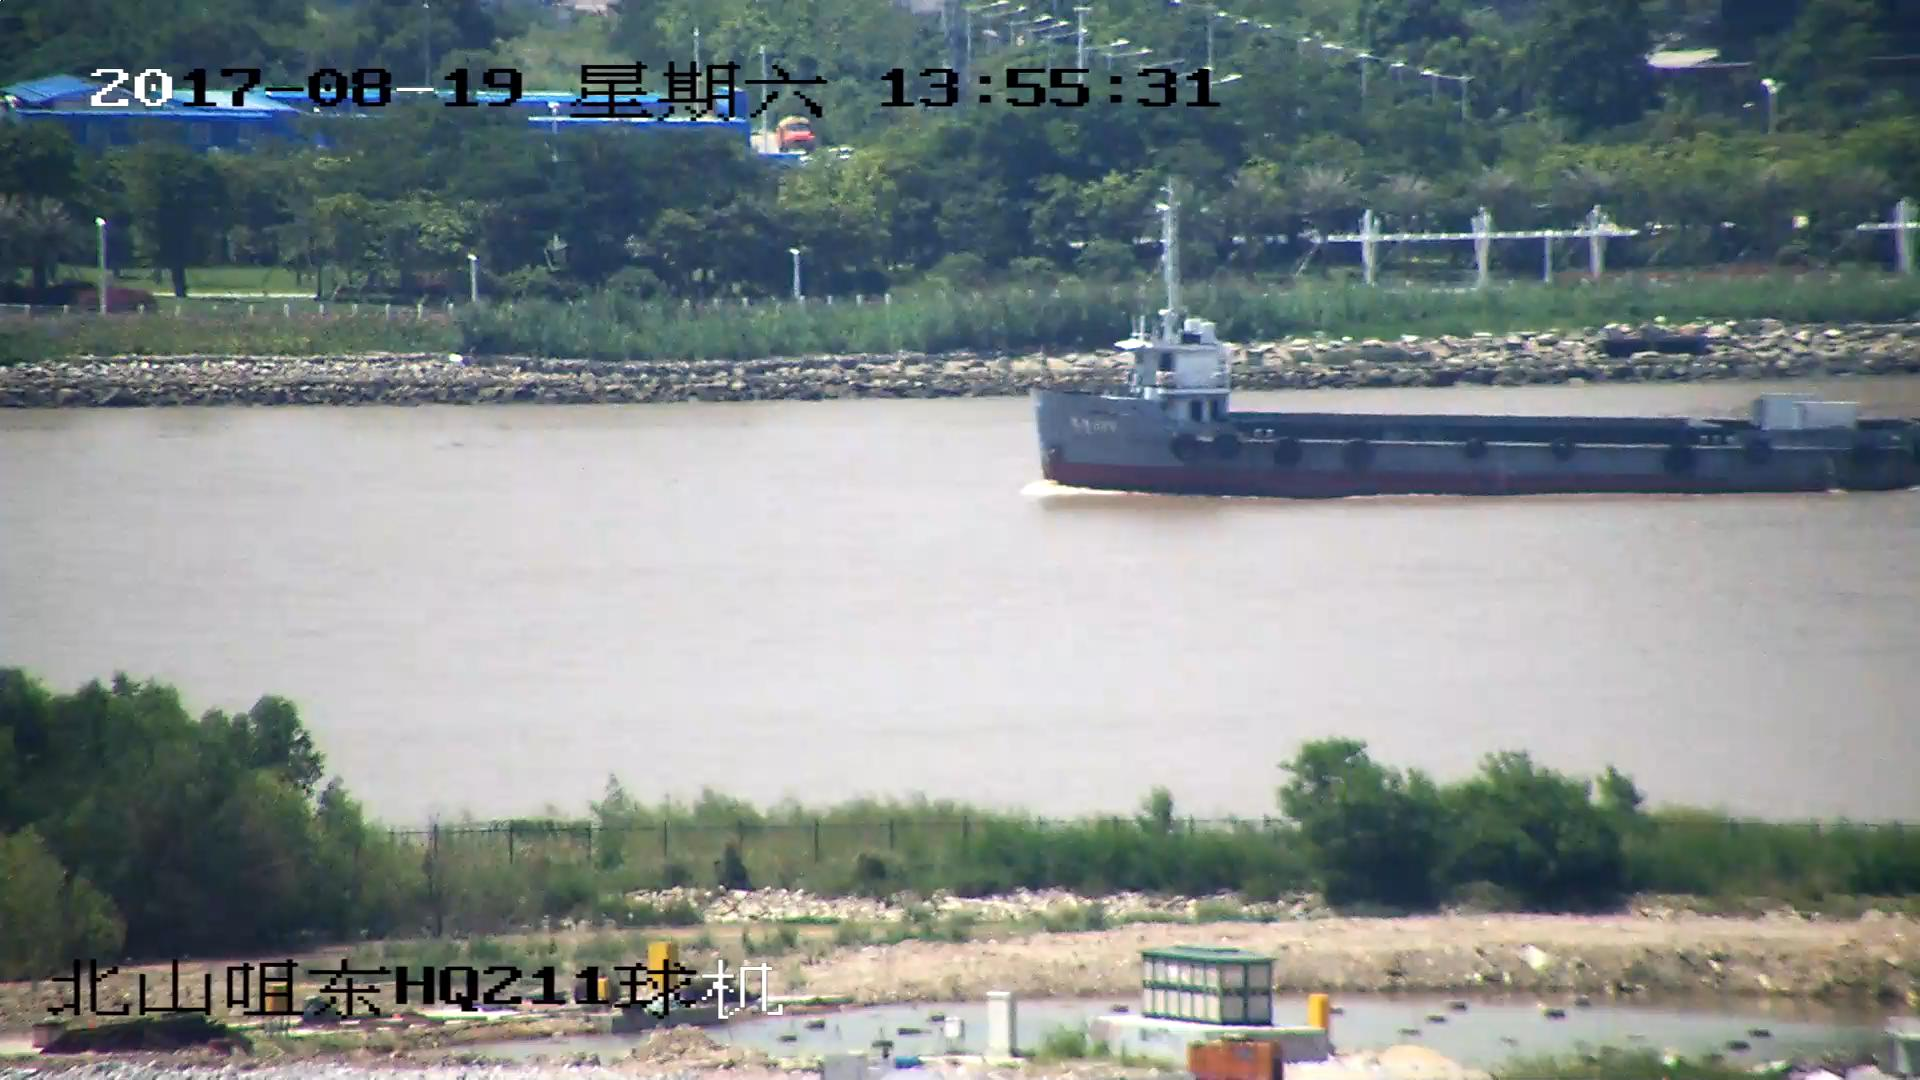general cargo ship: (1032, 326, 1920, 495)
